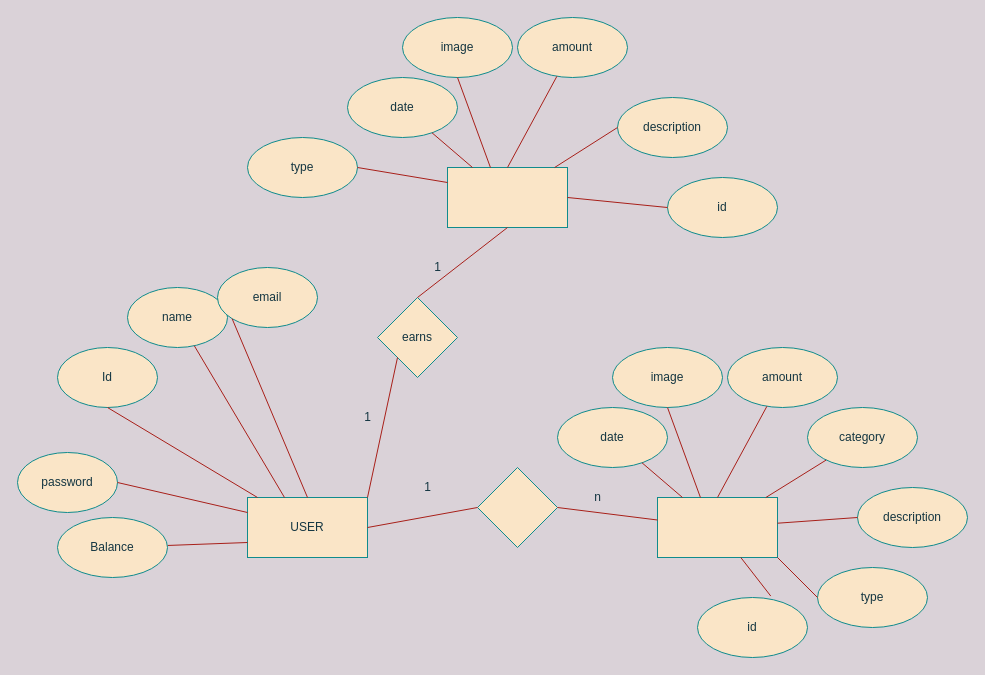
This 985x675 diagram has some shape labels left out. Here are the shapes that lost their labels. From the top down, the centre of each, then its label:
point 507,197: INCOME
point 517,507: has
point 717,527: EXPENSES
